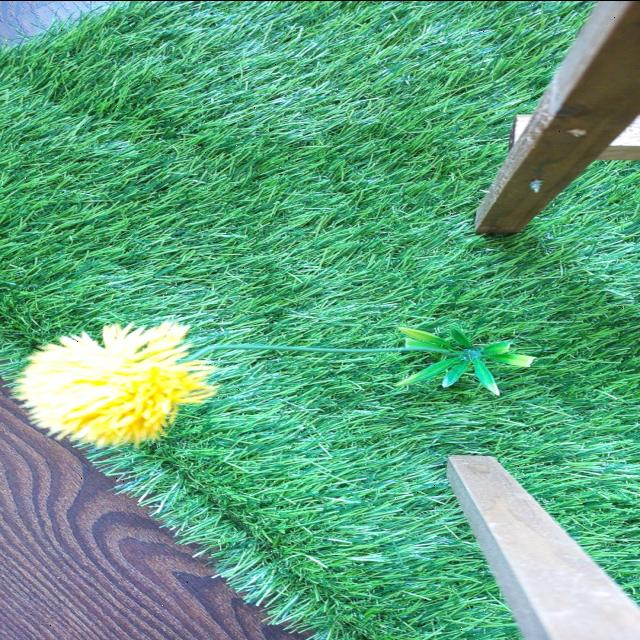base: (392, 326, 534, 391)
flower: (13, 320, 216, 444)
